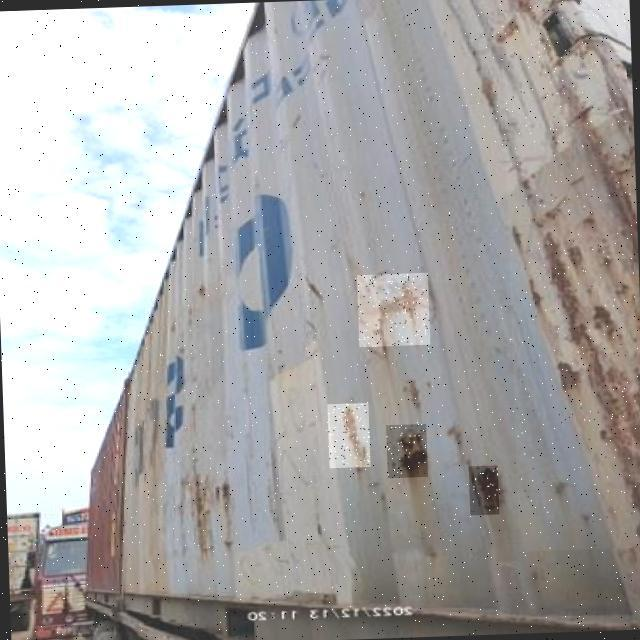Rust: (497, 8, 640, 551), (357, 273, 430, 347), (327, 403, 370, 468), (386, 424, 428, 478), (468, 465, 499, 515)
